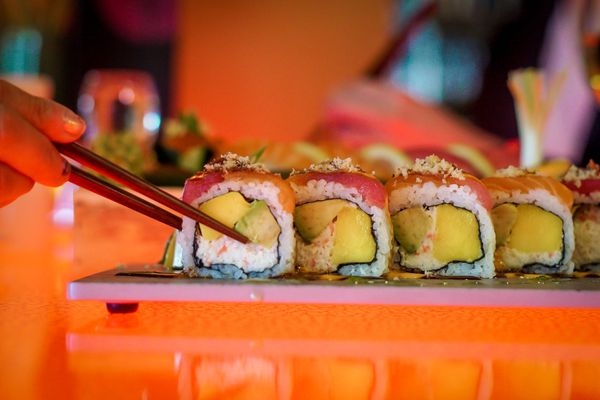sandwich: (50, 137, 252, 241)
